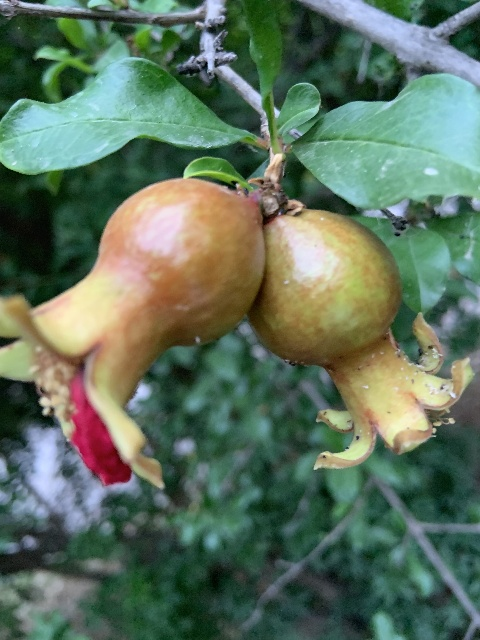early-fruit: (0, 175, 267, 489), (250, 210, 469, 470)
